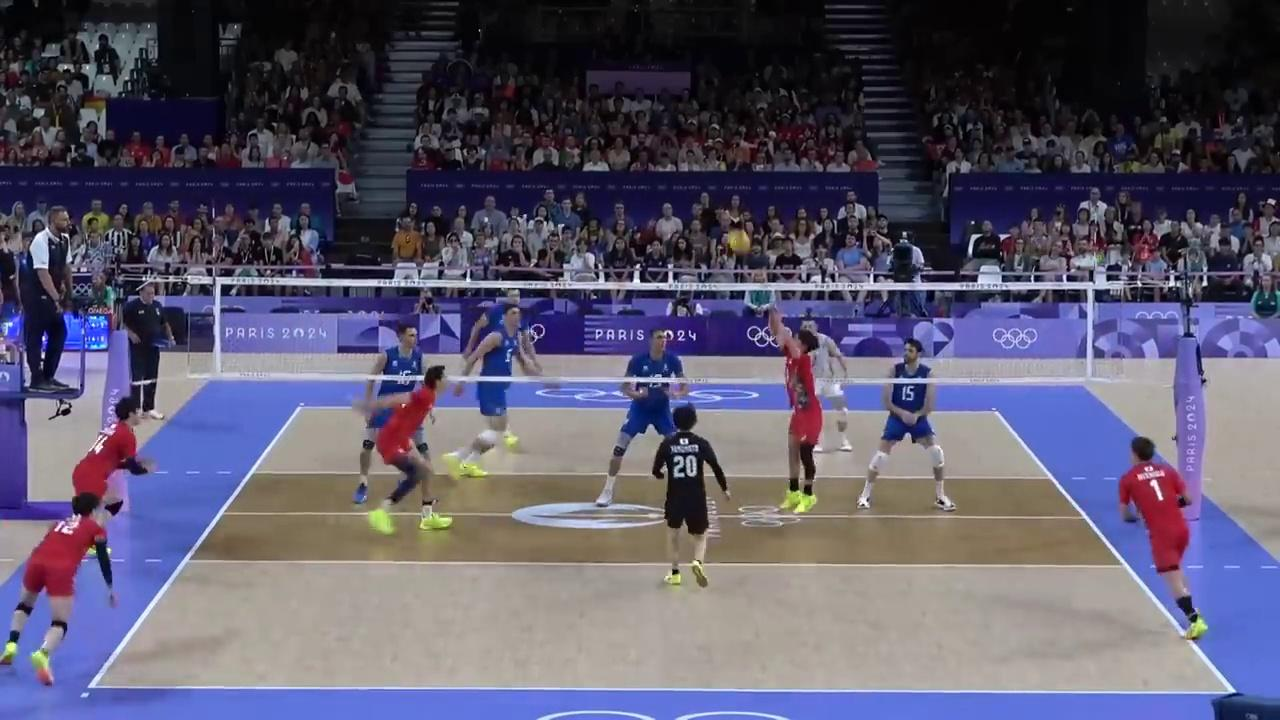ball: (729, 230, 752, 255)
